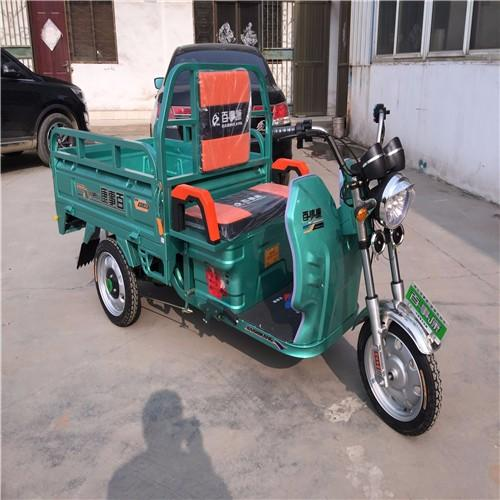tricycle: (41, 35, 469, 451)
